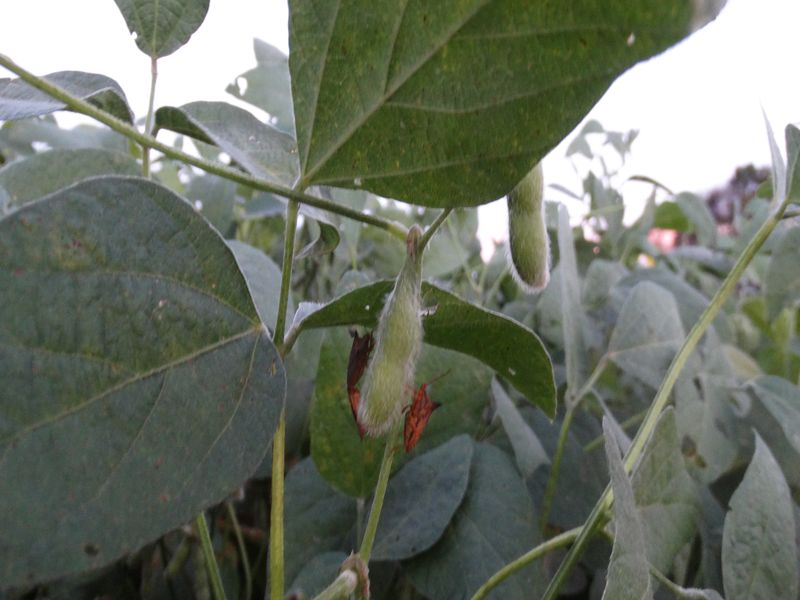Euschistus_heros_adulto: (324, 322, 396, 455), (388, 363, 457, 464)
